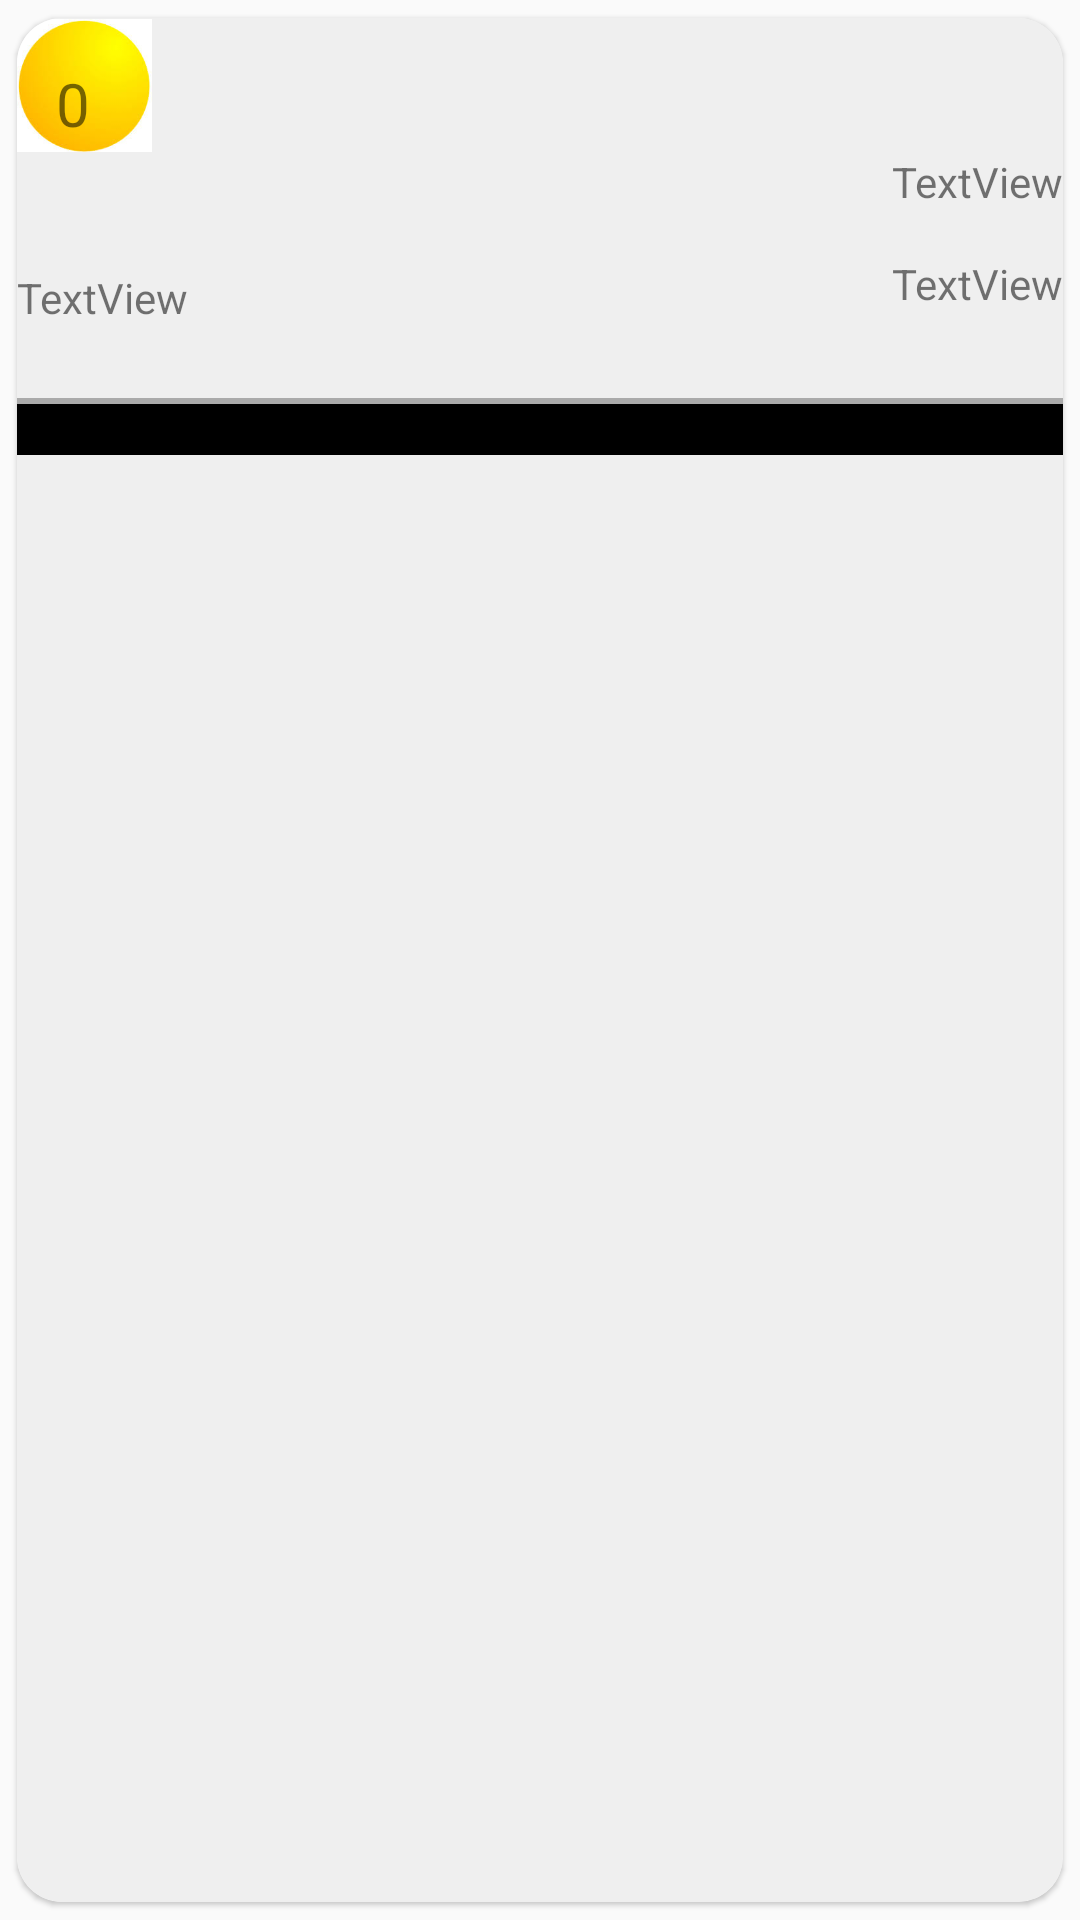

Where icons sit on this 1080w x 1920h app screen, as (x1, y1, x2, y2):
round: (17, 20, 150, 152)
